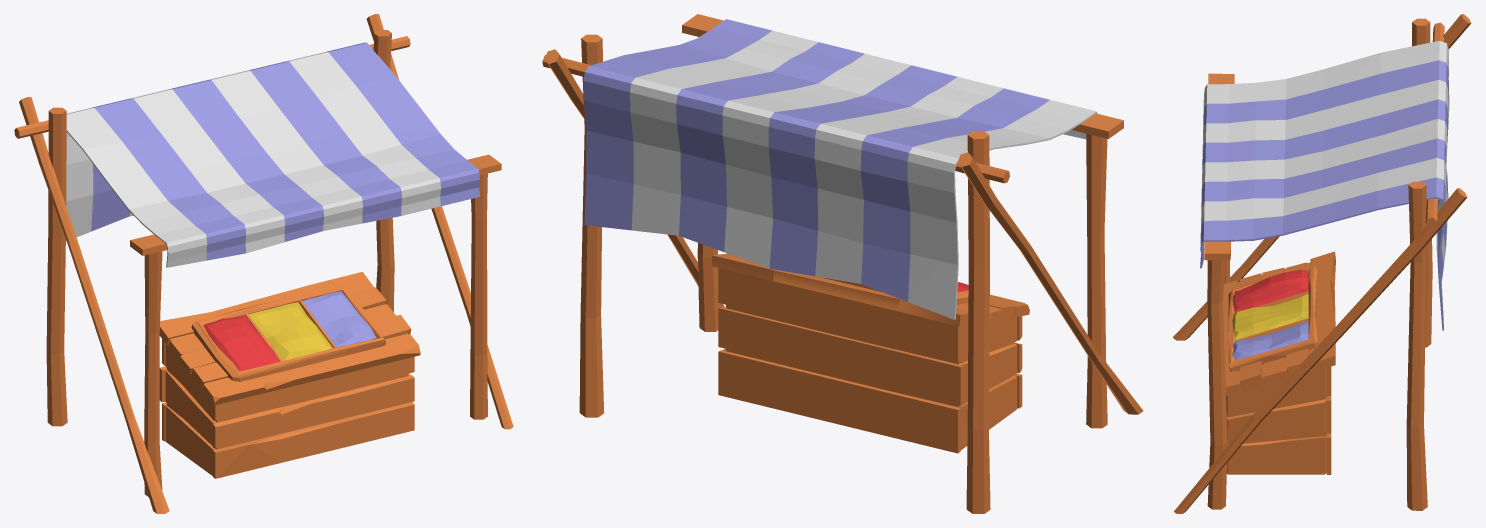
Rendered from Stall_3.fbx.
3 views of the same model, side by side, from view 1: azimuth 30°, elevation 25°; view 2: azimuth 150°, elevation 25°; view 3: azimuth 270°, elevation 25° (orthographic). The views are drawn at different scales.
Parts seen in each view (by area): view 1: Stall_3; view 2: Stall_3; view 3: Stall_3.
Part boxes in pixels (box(x1,y1,x2,y2)): Stall_3: box(14, 14, 513, 513); Stall_3: box(542, 14, 1143, 513); Stall_3: box(1173, 14, 1471, 513).
Size of the model in its own units: 3.9 by 3.02 by 2.53.
